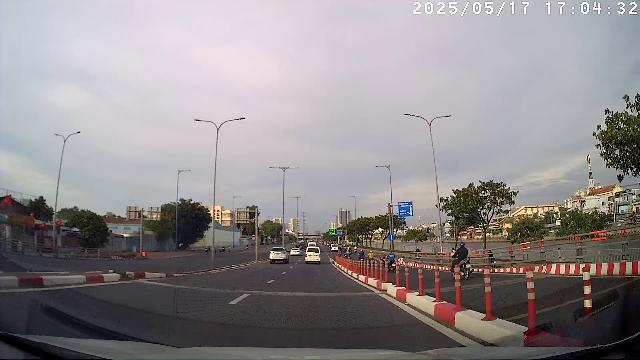301a-cac-xe-chi-duoc-di-thang: (388, 234, 396, 240)
